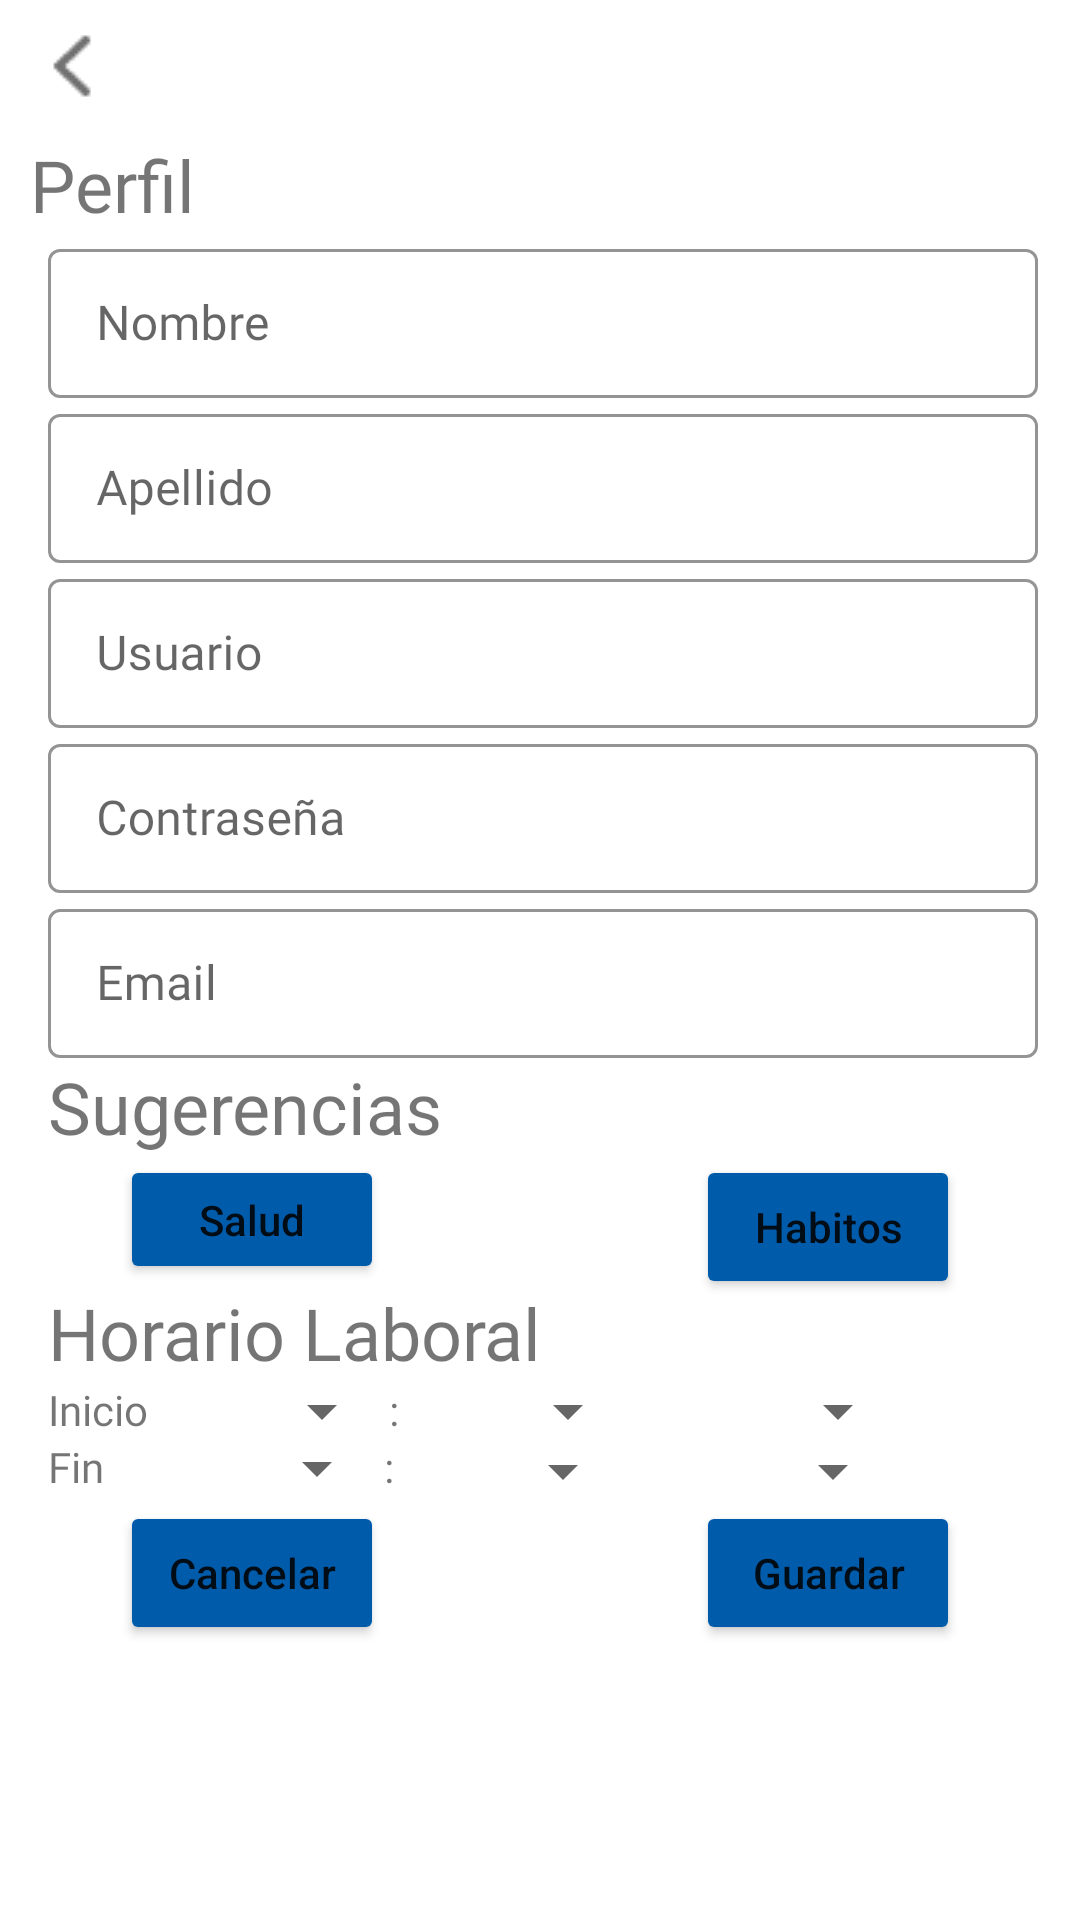

Icons on this 1080*1920 Android screen, each with its box as (left=x1, top=y1, right=x2, bottom=y2):
back: (left=53, top=35, right=91, bottom=97)
